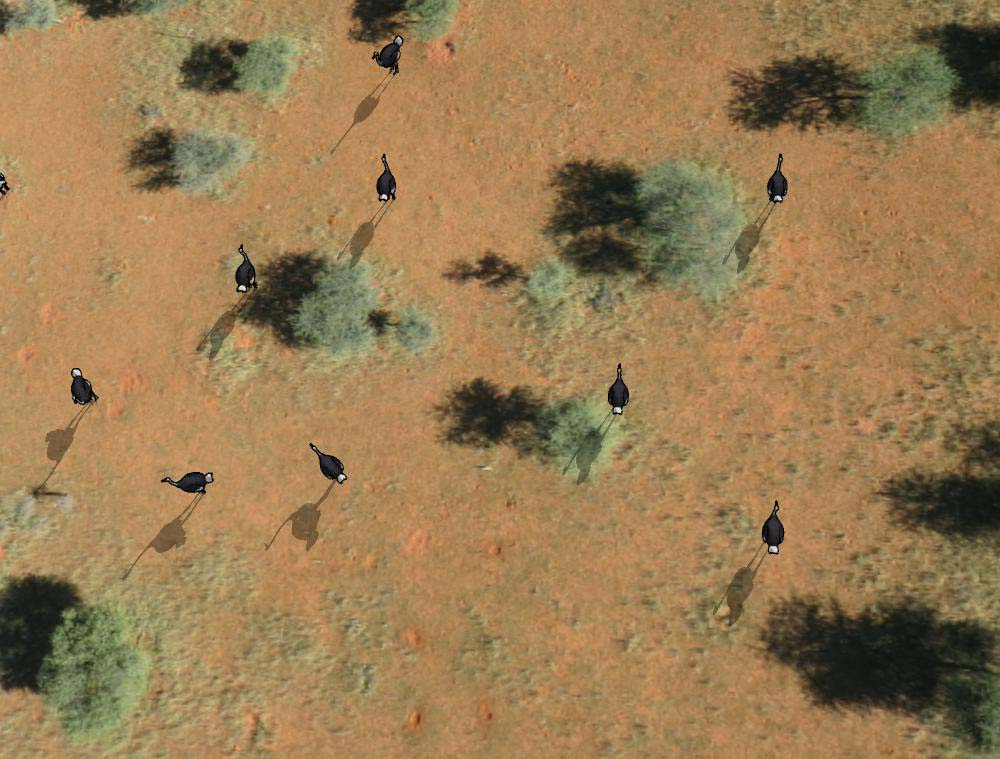springbok: (603, 356, 635, 420), (366, 33, 412, 77), (309, 441, 351, 489), (759, 151, 794, 207), (157, 468, 218, 499), (761, 495, 790, 559), (368, 151, 403, 203), (65, 359, 101, 409), (230, 241, 261, 295)
